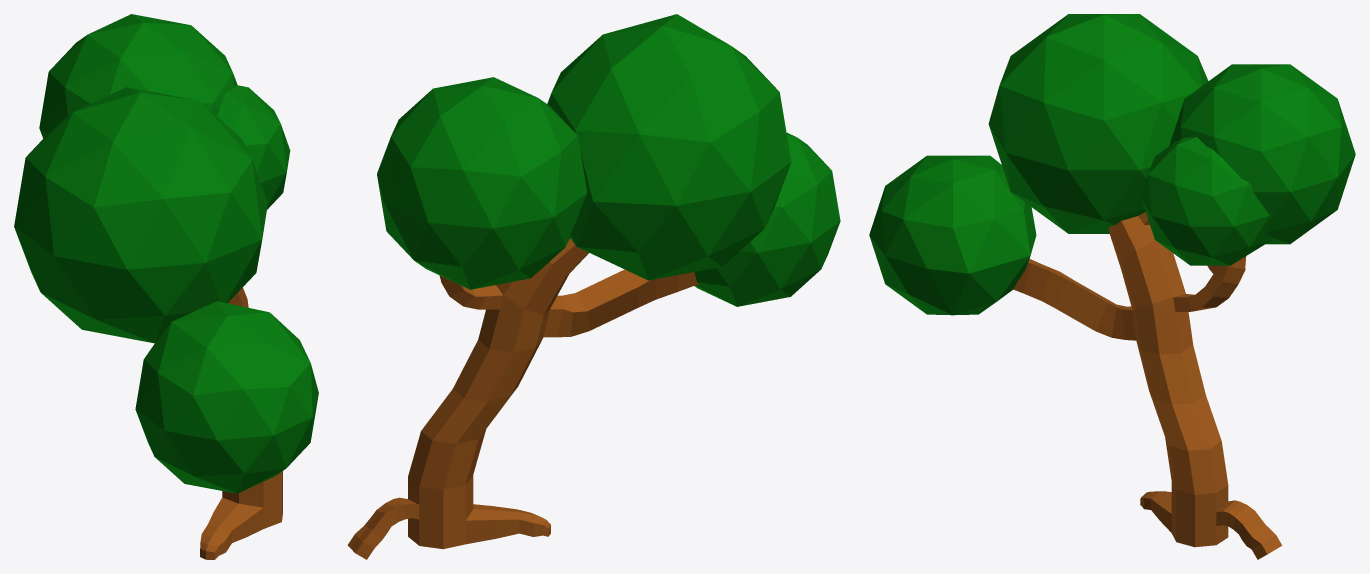
Rendered from Arbol2.fbx.
3 views of the same model, side by side, from view 1: azimuth 30°, elevation 25°; view 2: azimuth 150°, elevation 25°; view 3: azimuth 270°, elevation 25° (orthographic). The views are drawn at different scales.
Parts seen in each view (by area): view 1: Icosphere.020, Icosphere.017, Icosphere.021, Icosphere.019, Cylinder.033; view 2: Icosphere.020, Icosphere.021, Cylinder.033, Icosphere.017; view 3: Icosphere.020, Cylinder.033, Icosphere.017, Icosphere.021, Icosphere.019.
Boxes of the visible parts, x1,y1,x2,y2 form: Icosphere.020: (14, 87, 267, 343); Icosphere.017: (135, 301, 318, 493); Icosphere.021: (39, 14, 237, 138); Icosphere.019: (216, 85, 290, 209); Cylinder.033: (200, 287, 282, 559); Icosphere.020: (547, 14, 791, 280); Icosphere.021: (377, 77, 587, 289); Cylinder.033: (347, 238, 698, 559); Icosphere.017: (694, 132, 840, 306); Icosphere.020: (988, 14, 1208, 233); Cylinder.033: (1013, 212, 1281, 559); Icosphere.017: (869, 155, 1036, 315); Icosphere.021: (1169, 64, 1355, 244); Icosphere.019: (1141, 137, 1272, 265).
Size of the model in its own units: 355 by 528 by 514.
